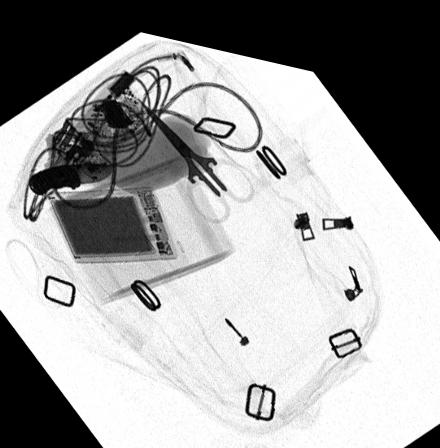Knife: (31, 157, 120, 193)
Powerbank: (44, 177, 179, 261)
Scissors: (137, 90, 256, 215)
